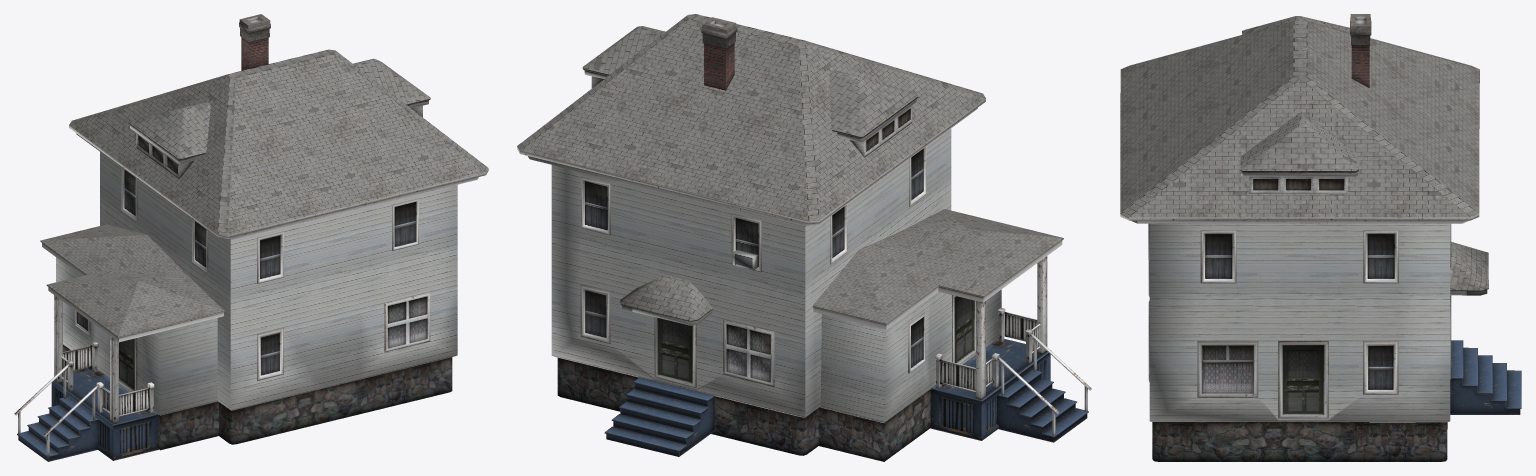
File: house.obj
3 renders of one model, left to right at view 1: azimuth 30°, elevation 25°; view 2: azimuth 150°, elevation 25°; view 3: azimuth 270°, elevation 25°, orthographic. The views are drawn at different scales.
Parts seen in each view (by area): view 1: house_Malla_Roof_D, house_Malla_House_Side_D, house_Malla_Farm_house_D; view 2: house_Malla_Roof_D, house_Malla_House_Side_D, house_Malla_Farm_house_D; view 3: house_Malla_Roof_D, house_Malla_House_Side_D, house_Malla_Farm_house_D.
Boxes of the visible parts, x1=… form: house_Malla_Roof_D: x1=40, y1=49, x2=488, y2=336; house_Malla_House_Side_D: x1=56, y1=152, x2=457, y2=415; house_Malla_Farm_house_D: x1=14, y1=14, x2=488, y2=461; house_Malla_Roof_D: x1=517, y1=14, x2=1063, y2=323; house_Malla_House_Side_D: x1=551, y1=128, x2=1001, y2=422; house_Malla_Farm_house_D: x1=517, y1=17, x2=1091, y2=461; house_Malla_Roof_D: x1=1120, y1=16, x2=1488, y2=290; house_Malla_House_Side_D: x1=1149, y1=223, x2=1450, y2=422; house_Malla_Farm_house_D: x1=1120, y1=14, x2=1521, y2=461.
Size of the model in its own units: 1.24 by 0.976 by 0.9313.
3 materials, 3 textured.
